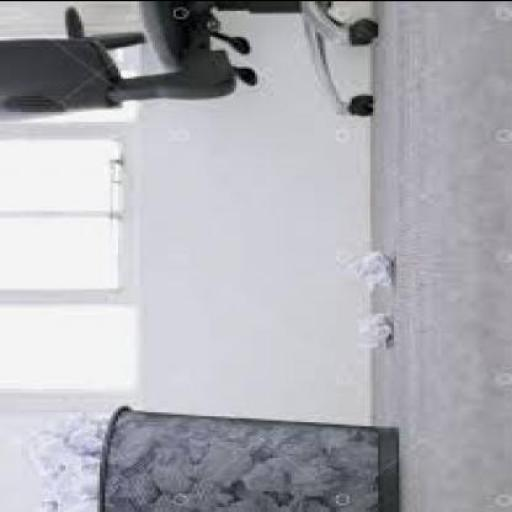paper: (192, 436, 252, 481), (333, 246, 394, 282), (326, 434, 372, 476), (22, 427, 70, 467), (347, 310, 396, 348), (323, 478, 379, 510), (284, 459, 335, 494), (52, 456, 94, 498), (58, 407, 100, 447), (118, 419, 153, 465), (244, 454, 284, 492), (273, 428, 320, 453), (116, 470, 152, 502), (149, 448, 189, 473), (257, 419, 302, 441), (307, 421, 347, 445), (28, 484, 58, 510), (162, 419, 190, 443), (220, 494, 258, 510), (168, 488, 194, 510), (154, 474, 184, 488), (250, 494, 276, 510), (218, 424, 244, 440), (276, 494, 299, 510), (150, 494, 170, 510), (60, 502, 95, 510), (197, 421, 218, 434)
